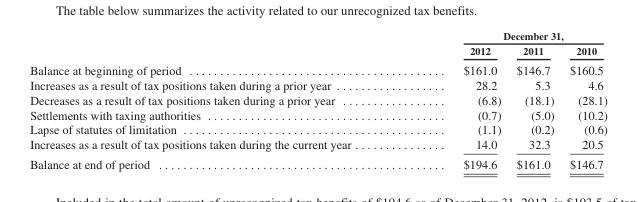table: (29, 28, 606, 171)
table column: (29, 28, 406, 171), (406, 28, 508, 171), (508, 28, 561, 171), (561, 28, 606, 171)
table column header: (29, 28, 606, 59)
table row: (29, 59, 606, 77), (29, 136, 606, 154), (29, 42, 606, 59), (29, 154, 606, 171), (29, 77, 606, 92), (29, 92, 606, 107), (29, 121, 606, 136), (29, 28, 606, 42), (29, 107, 606, 121)
table spanning cell: (406, 28, 606, 42)
